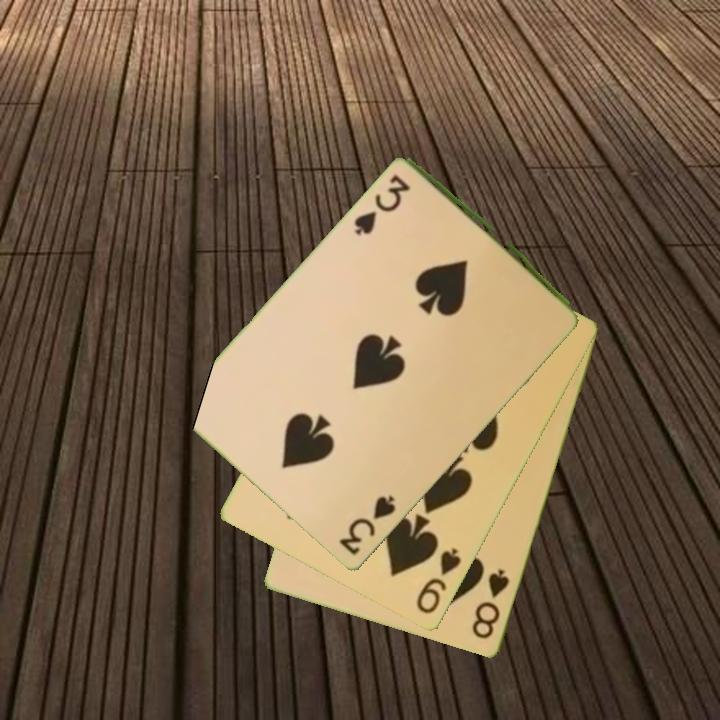3s: (335, 491, 399, 559), (350, 171, 414, 238)
8s: (468, 566, 513, 643)
9s: (413, 544, 464, 618)
